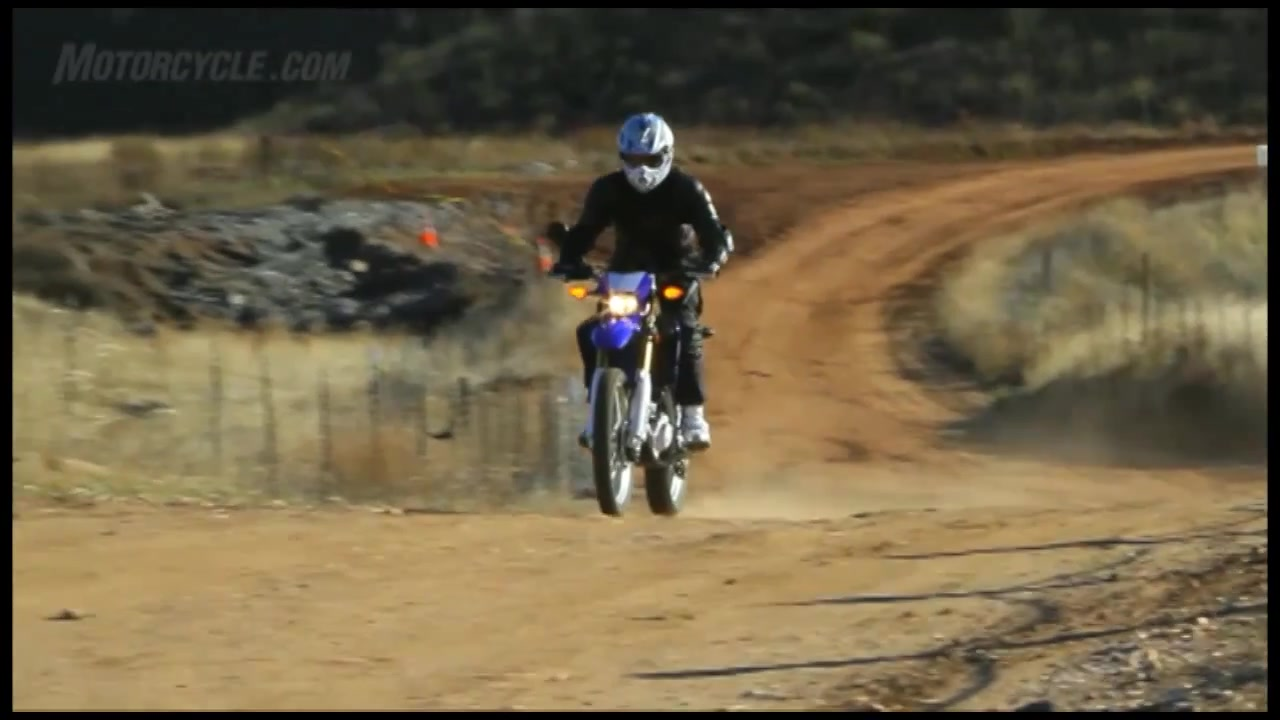motorbike: (544, 219, 737, 521)
